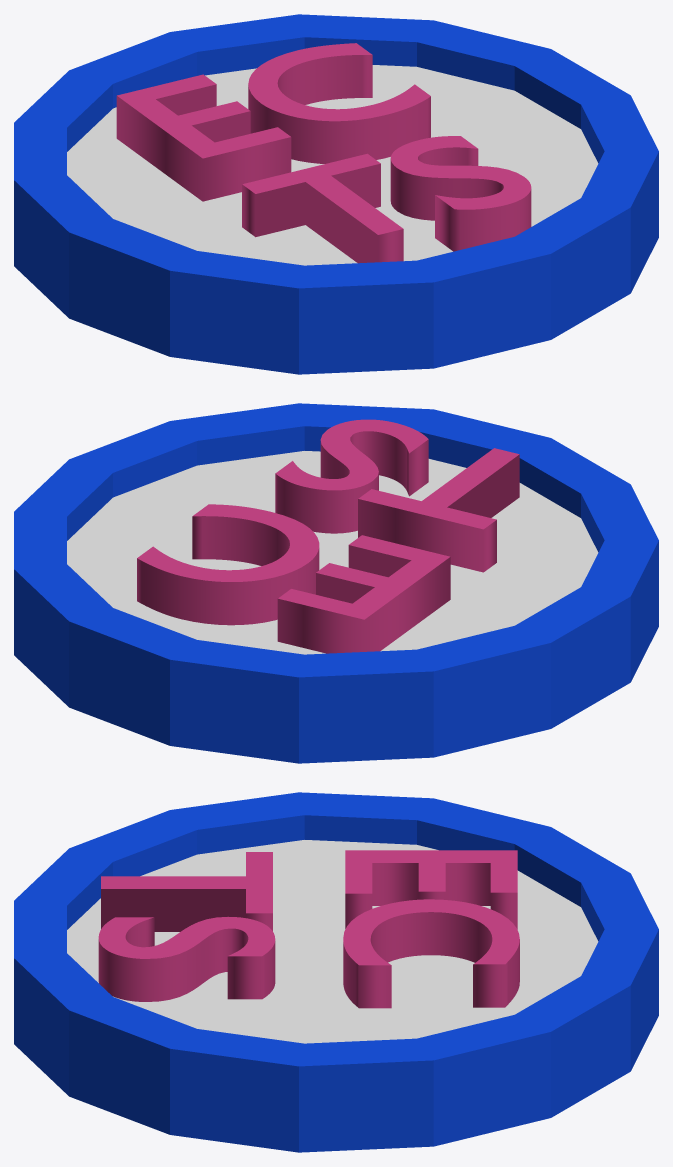
Rendered from coin.fbx.
3 views of the same model, one above another, from view 1: azimuth 30°, elevation 25°; view 2: azimuth 150°, elevation 25°; view 3: azimuth 270°, elevation 25° (orthographic).
Parts seen in each view (by area): view 1: Cylinder, Text1; view 2: Cylinder, Text1; view 3: Cylinder, Text1.
Boxes of the visible parts, bbox=[...] form: Cylinder: bbox=[14, 14, 658, 374]; Text1: bbox=[116, 43, 531, 263]; Cylinder: bbox=[14, 403, 658, 763]; Text1: bbox=[137, 419, 519, 653]; Cylinder: bbox=[14, 792, 658, 1152]; Text1: bbox=[98, 850, 519, 1008].
Bounding box in the file's own units: 239 × 50 × 237.
